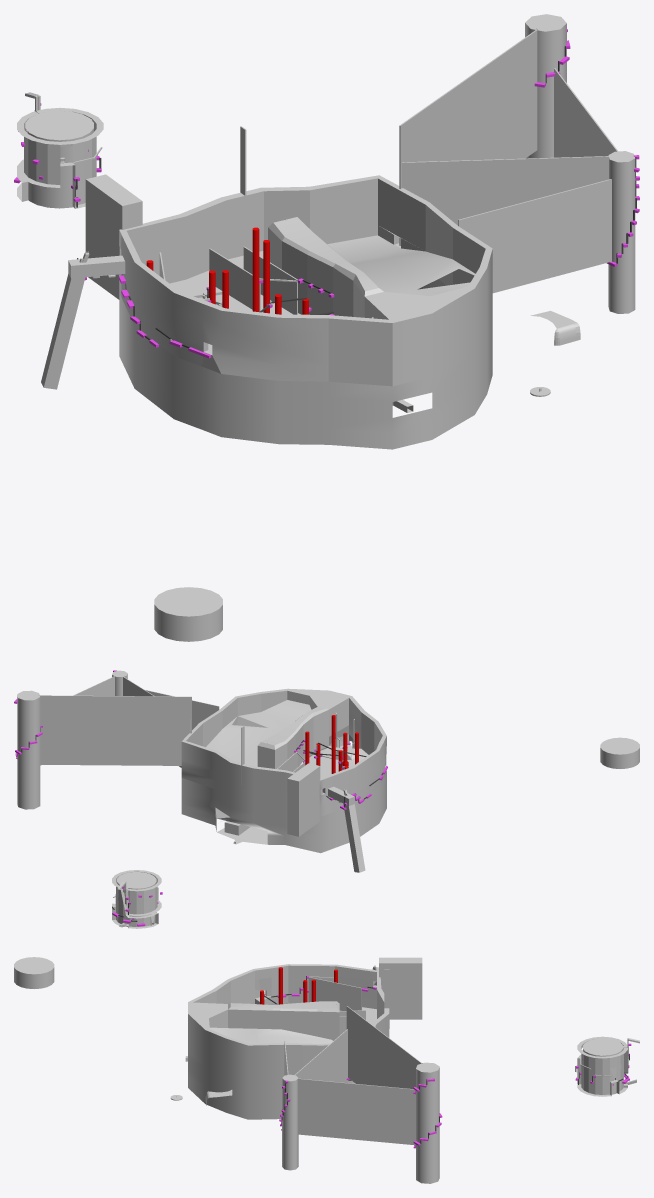
The model's file is Ile_Detail.fbx.
3 renders of one model, top to bottom at view 1: azimuth 30°, elevation 25°; view 2: azimuth 150°, elevation 25°; view 3: azimuth 270°, elevation 25°, orthographic. The views are drawn at different scales.
Visible parts, largest first — view 1: Ile_strat_>0, Ile_Strat_<0, Box088, Box089, Box092, cercle_int001, Box152, Cylinder033, Hub, Cylinder034, Cylinder035, Box090 (+4 smaller); view 2: Ile_strat_>0, Box088, Ile_Strat_<0, Cylinder034, Box152, cercle_int001, Hub, Fallaise_etretat_vertical, Cylinder035, Box089, Box090; view 3: Ile_strat_>0, Box090, Ile_Strat_<0, Box088, Cylinder034, Box152, cercle_int001, Box092, Cylinder033, Hub, Box085, Cylinder035.
Boxes of the visible parts, box(x1,y1,x2,y2) form: Ile_strat_>0: box(119, 175, 492, 386); Ile_Strat_<0: box(119, 235, 492, 449); Box088: box(399, 30, 537, 245); Box089: box(458, 179, 611, 293); Box092: box(402, 156, 609, 247); cercle_int001: box(17, 107, 103, 208); Box152: box(85, 174, 142, 299); Cylinder033: box(608, 151, 635, 313); Hub: box(154, 587, 222, 641); Cylinder034: box(525, 14, 566, 158); Cylinder035: box(25, 110, 93, 208); Box090: box(554, 68, 617, 157); Ile_strat_>0: box(181, 688, 386, 816); Box088: box(40, 695, 191, 765); Ile_Strat_<0: box(181, 700, 386, 853); Cylinder034: box(17, 690, 40, 809); Box152: box(287, 763, 320, 836); cercle_int001: box(112, 870, 161, 928); Hub: box(600, 737, 639, 768); Fallaise_etretat_vertical: box(343, 803, 365, 872); Cylinder035: box(117, 872, 156, 916); Box089: box(145, 690, 219, 729); Box090: box(40, 676, 114, 765); Ile_strat_>0: box(188, 964, 389, 1082); Box090: box(298, 1078, 415, 1145); Ile_Strat_<0: box(188, 1003, 376, 1119); Box088: box(346, 1006, 421, 1088); Cylinder034: box(416, 1062, 439, 1183); Box152: box(379, 957, 422, 1019); cercle_int001: box(577, 1036, 628, 1096); Box092: box(294, 1029, 348, 1082); Cylinder033: box(282, 1074, 298, 1170); Hub: box(14, 957, 54, 988); Box085: box(308, 977, 361, 1010); Cylinder035: box(583, 1038, 623, 1094).
Bounding box in the file's own units: 61599 × 76474 × 16416.
